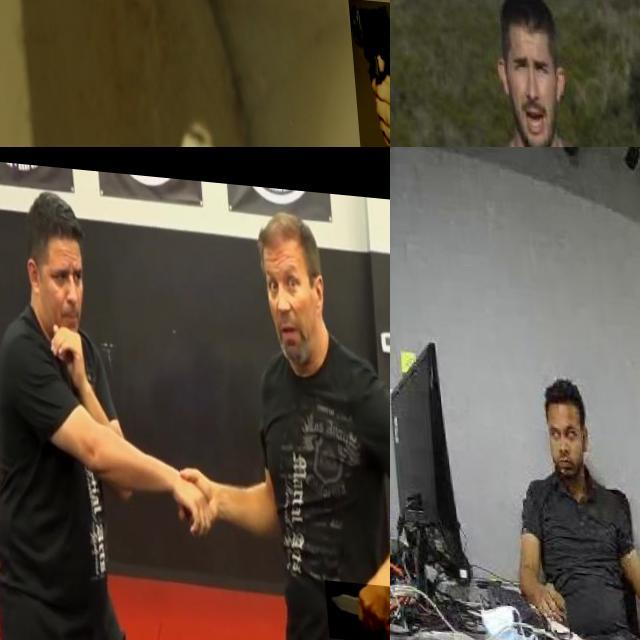-: (318, 571, 390, 636)
gun-knife-thesis - v11 Yolov5 augmented: (345, 0, 390, 147)
